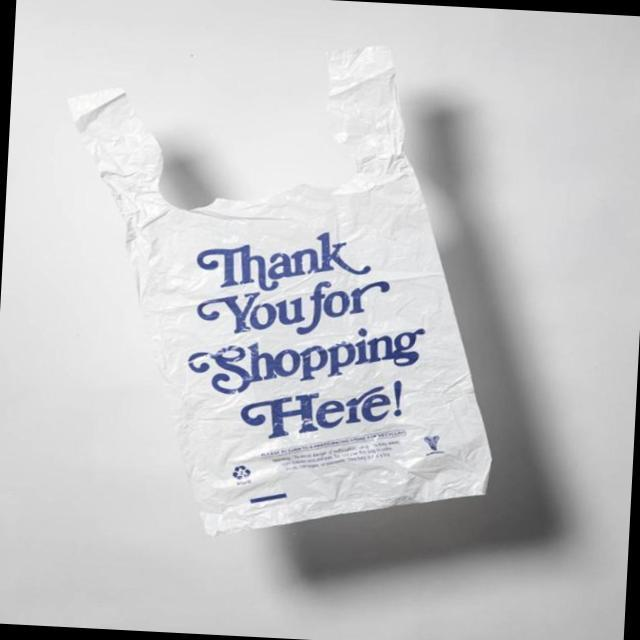Plastic_Bag: (39, 27, 518, 562)
